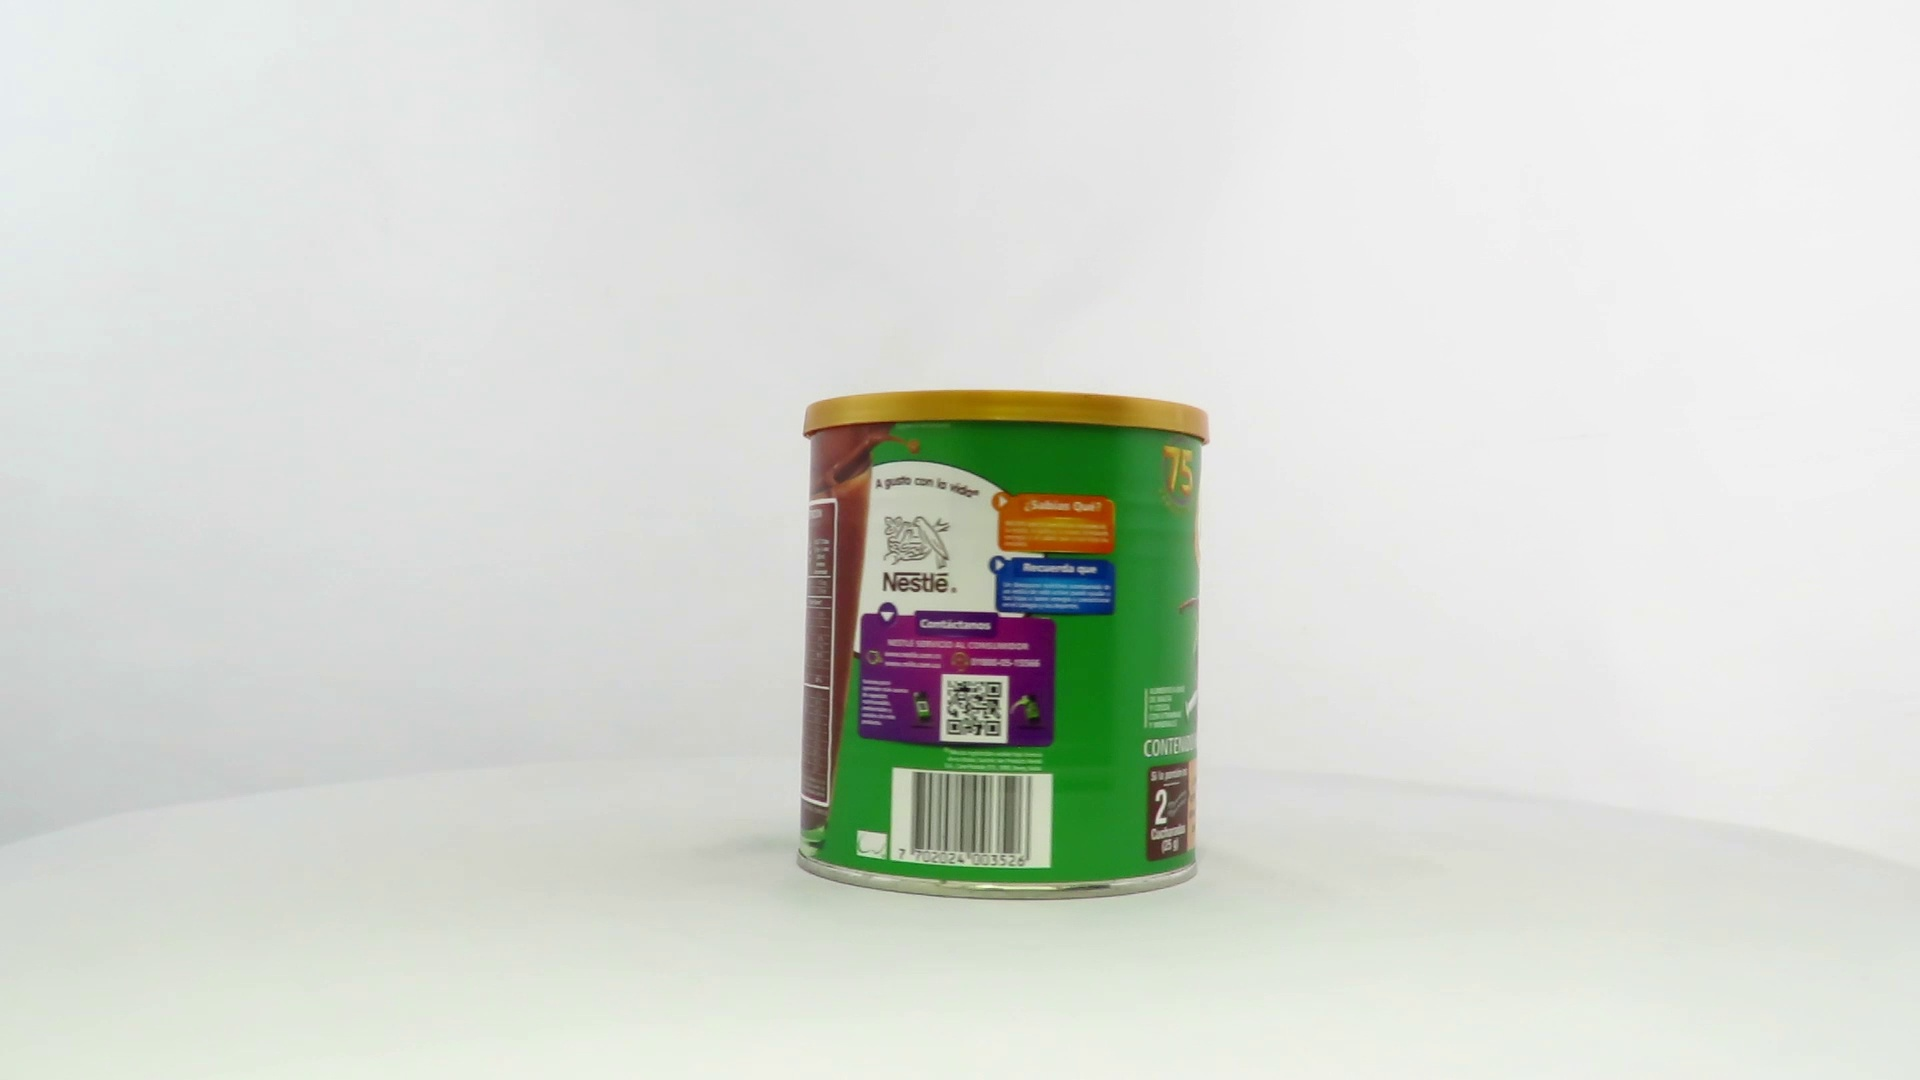COL0170203LAT40000: (790, 384, 1216, 907)
